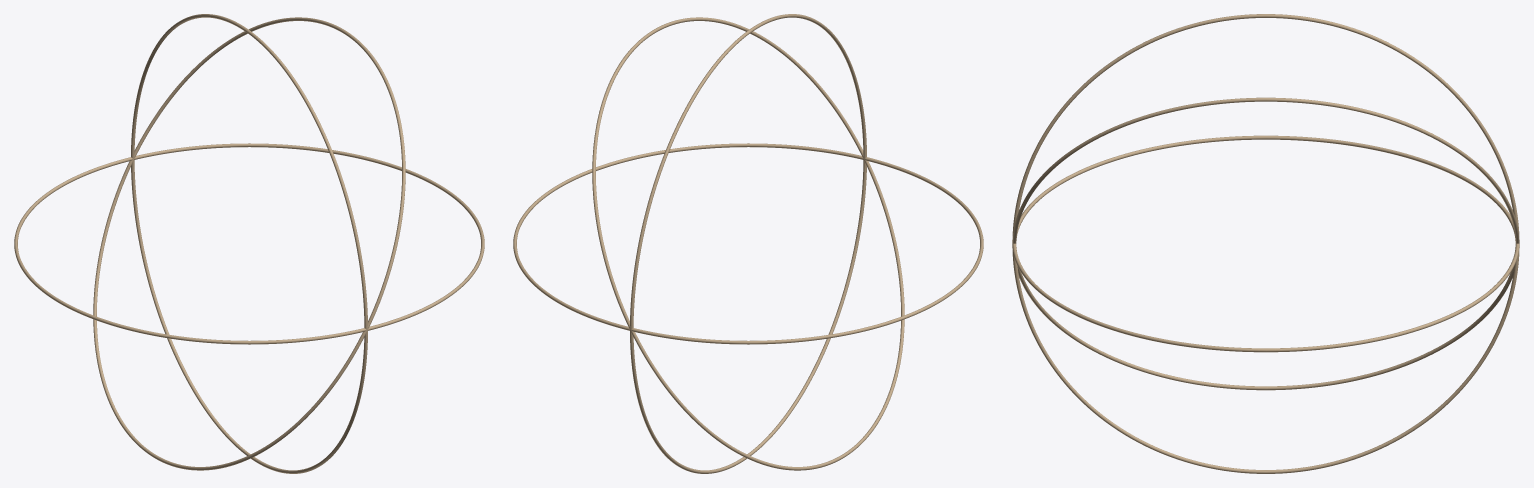
File: orbital-cage.glb
3 views of the same model, side by side, from view 1: azimuth 30°, elevation 25°; view 2: azimuth 150°, elevation 25°; view 3: azimuth 270°, elevation 25° (orthographic). The views are drawn at different scales.
Parts seen in each view (by area): view 1: meridian_b, equator, meridian_a; view 2: meridian_b, equator, meridian_a; view 3: meridian_a, meridian_b, equator.
Boxes of the visible parts, <box> form: meridian_b: <box>93,17,405,470</box>; equator: <box>14,143,484,344</box>; meridian_a: <box>131,14,367,473</box>; meridian_b: <box>592,17,904,470</box>; equator: <box>513,143,983,344</box>; meridian_a: <box>630,14,866,473</box>; meridian_a: <box>1012,14,1519,473</box>; meridian_b: <box>1012,97,1519,390</box>; equator: <box>1012,135,1519,352</box>.
Size of the model in its own units: 2.05 by 2.05 by 2.05.
